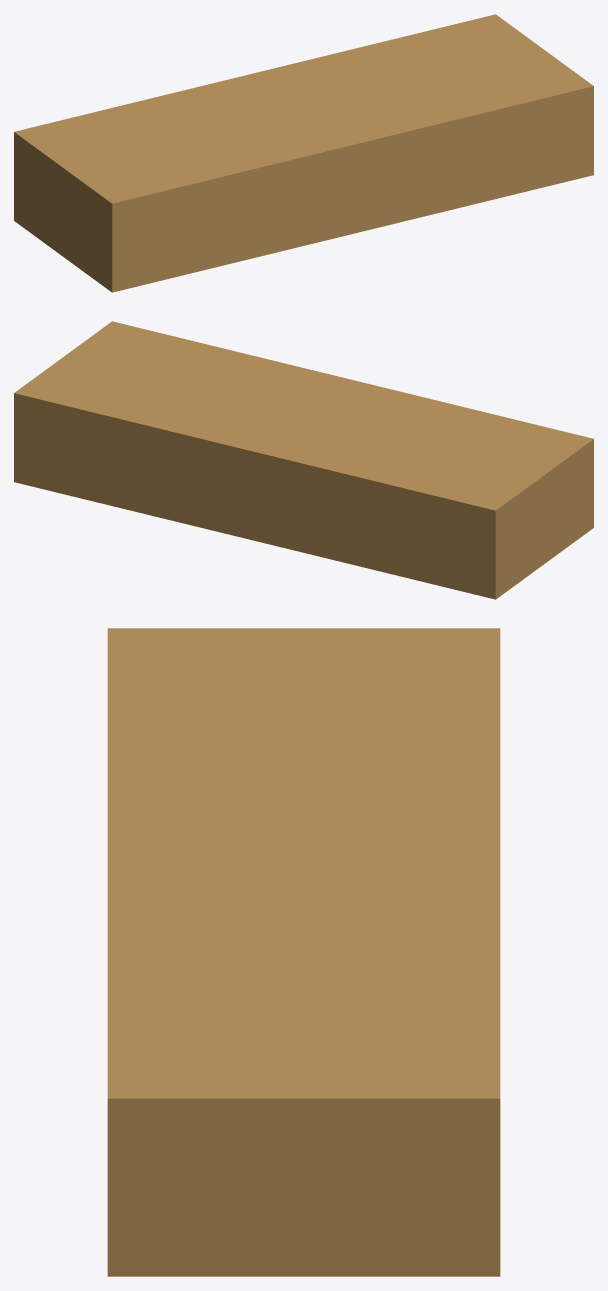
3 renders of one model, top to bottom at view 1: azimuth 30°, elevation 25°; view 2: azimuth 150°, elevation 25°; view 3: azimuth 270°, elevation 25°, orthographic. The views are drawn at different scales.
Parts seen in each view (by area): view 1: RUN-012-S00-NOG-08; view 2: RUN-012-S00-NOG-08; view 3: RUN-012-S00-NOG-08.
Boxes of the visible parts, box(x1,y1,x2,y2) form: RUN-012-S00-NOG-08: box(14, 14, 593, 292); RUN-012-S00-NOG-08: box(14, 321, 593, 599); RUN-012-S00-NOG-08: box(107, 628, 500, 1276).
Bounding box in the file's own units: 0.255 × 0.045 × 0.09.
